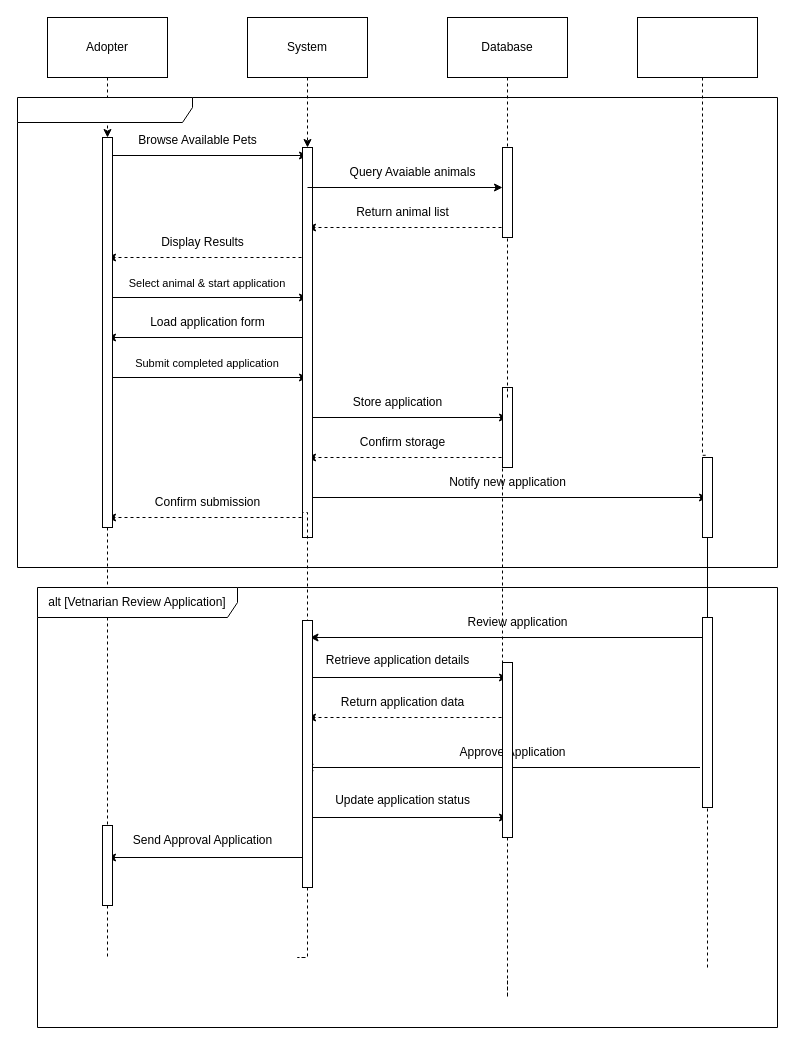
The diagram is 795 pixels wide and 1045 high, and some of its shapes have lost their labels. The centre of each missing label's shape, as x and y in pixels:
"Shelter Staff" belongs at point (697, 47).
"User Submit Application" belongs at point (397, 332).
